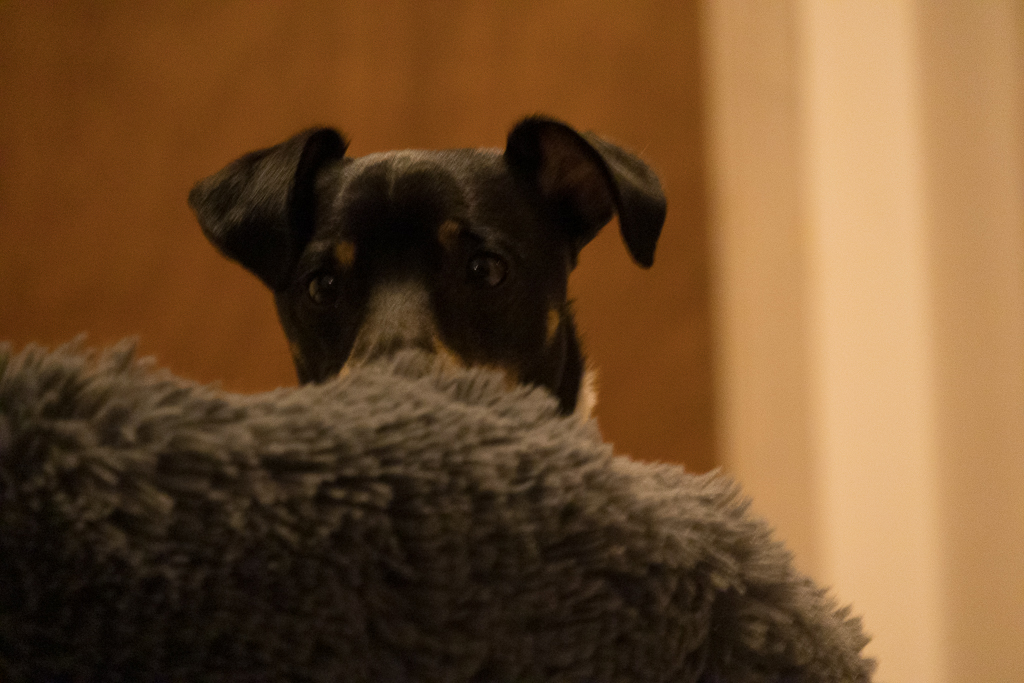Dog: (173, 99, 684, 462)
